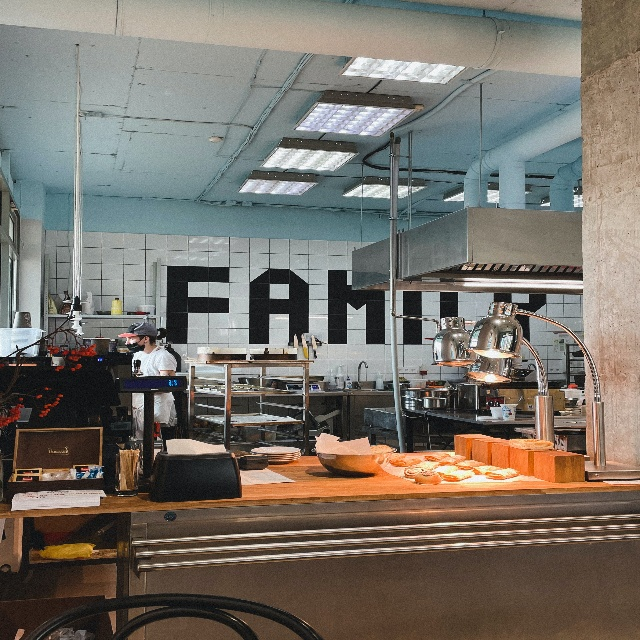Mascara: (125, 337, 147, 352)
